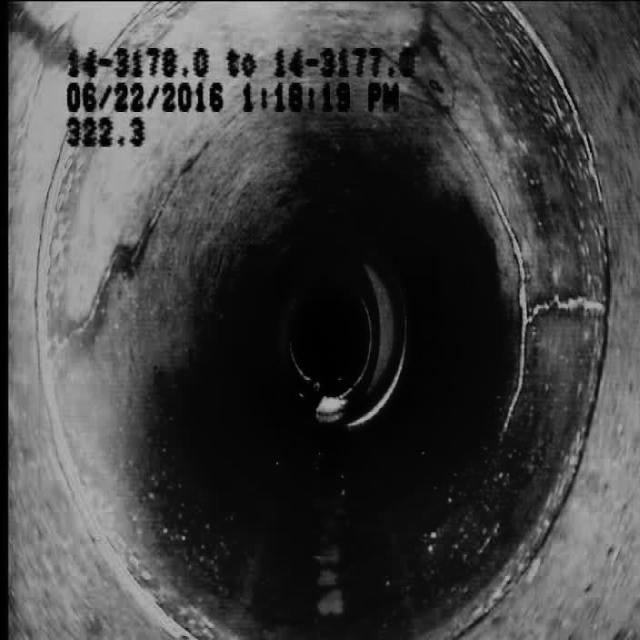Crack: (454, 117, 596, 431), (64, 172, 204, 386)
